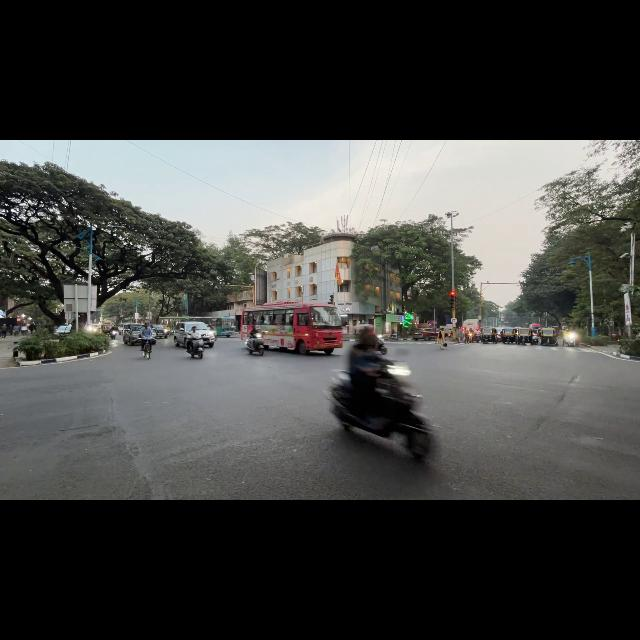bicycle: (143, 340, 150, 359)
bus: (241, 301, 342, 353), (159, 316, 235, 337), (217, 317, 235, 337)
car: (174, 321, 216, 347), (123, 324, 143, 345), (413, 328, 437, 340), (54, 325, 72, 339), (152, 325, 169, 338)
motorcycle: (326, 361, 435, 460), (245, 333, 263, 355), (187, 339, 203, 358), (563, 332, 577, 346), (377, 335, 387, 354), (389, 333, 401, 341), (110, 329, 117, 339)
